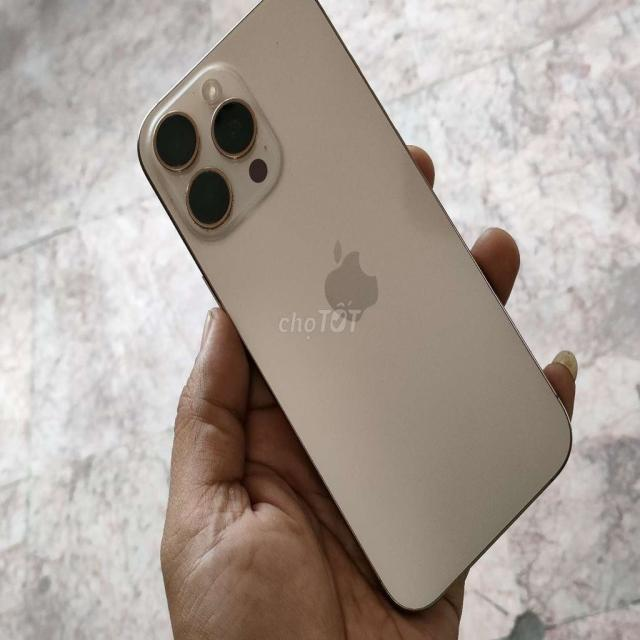scratch: (198, 234, 225, 253), (272, 36, 288, 62), (184, 81, 202, 96), (165, 190, 179, 208)
